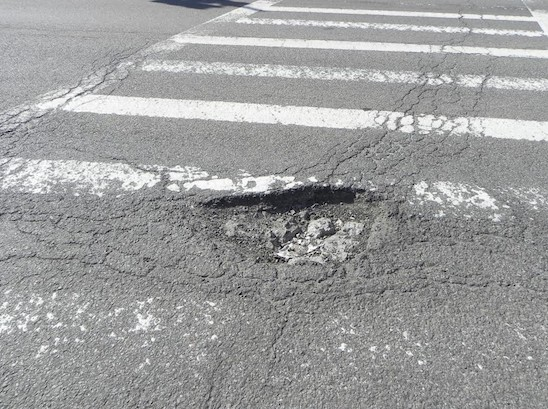pothole: (224, 178, 401, 264)
